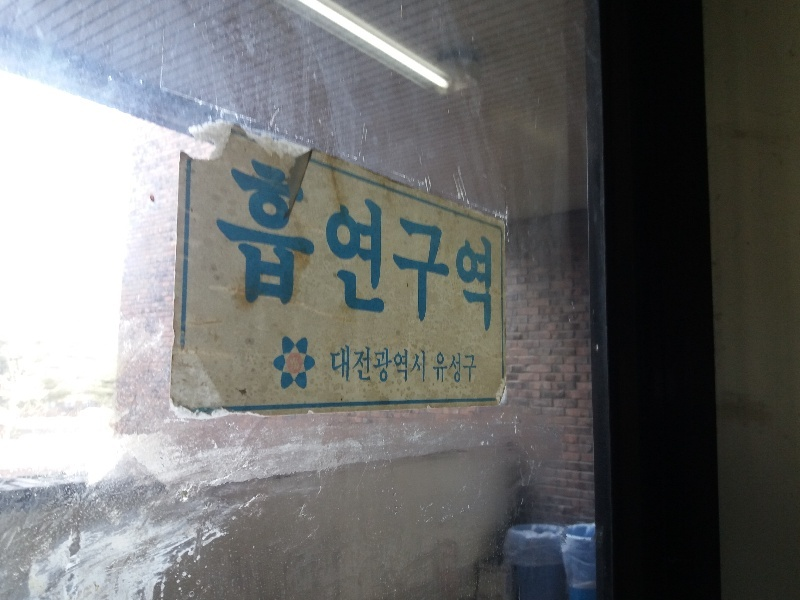text: (225, 147, 240, 332), (241, 147, 256, 332), (257, 147, 272, 332), (273, 147, 288, 332), (289, 147, 304, 332), (305, 147, 320, 332), (321, 147, 336, 332), (337, 147, 352, 332), (353, 147, 368, 332), (369, 147, 384, 332), (385, 147, 400, 332), (401, 147, 416, 332), (417, 147, 432, 332), (433, 147, 448, 332), (449, 147, 464, 332), (465, 147, 480, 332), (481, 147, 494, 332), (214, 147, 224, 332), (337, 346, 352, 385), (353, 346, 368, 385), (369, 346, 384, 385), (385, 346, 400, 385), (401, 346, 416, 385), (417, 346, 432, 385), (433, 346, 448, 385), (449, 346, 464, 385), (465, 346, 478, 385), (331, 346, 336, 385)
